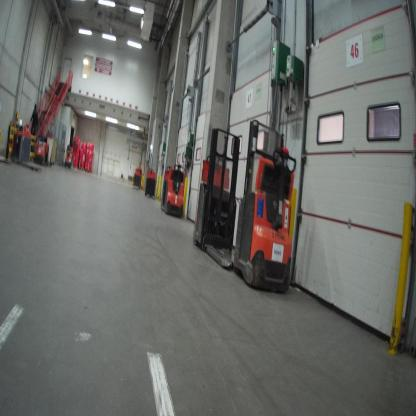pallet_truck: (217, 112, 299, 289), (191, 105, 249, 278), (10, 116, 43, 174), (158, 163, 188, 224), (35, 130, 51, 166), (143, 164, 158, 202), (132, 163, 145, 193)
